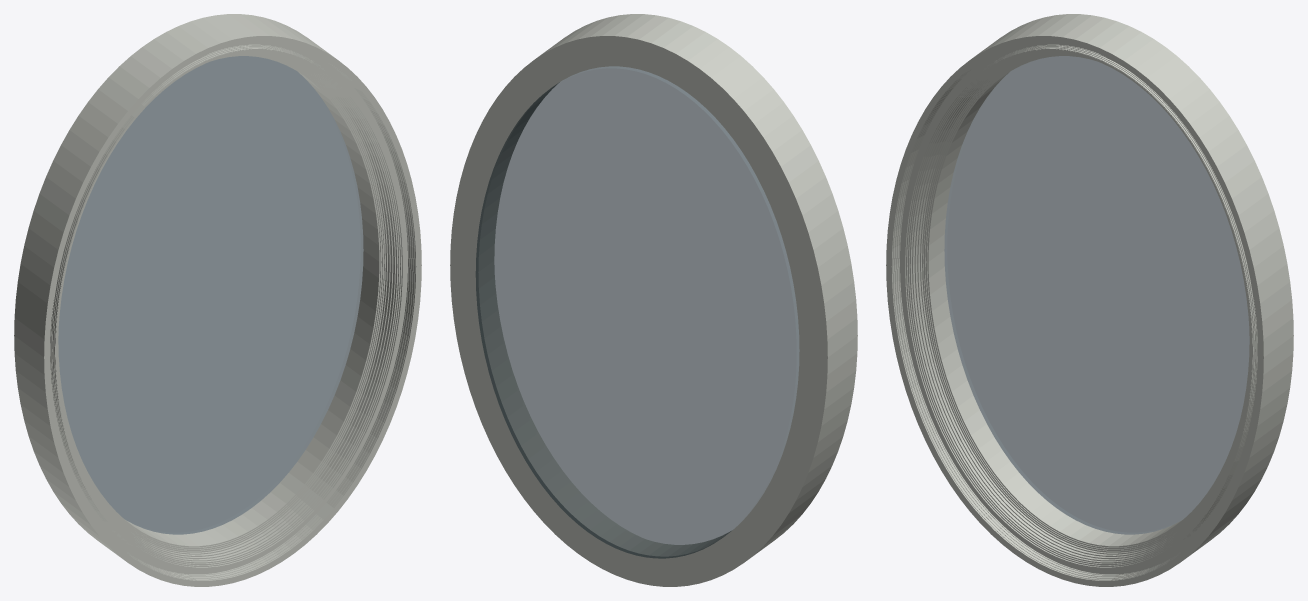
File: republicano_ellipse.glb
3 views of the same model, side by side, from view 1: azimuth 30°, elevation 25°; view 2: azimuth 150°, elevation 25°; view 3: azimuth 330°, elevation 25° (orthographic).
Parts seen in each view (by area): view 1: window_glass#0001, window_reveal#0001, window_profile#0028, window_profile#0001, window_profile#0025, window_profile#0027, window_profile#0026, window_profile#0012, window_profile#0009, window_profile#0011, window_profile#0008, window_profile#0010 (+18 smaller); view 2: window_glass#0001, window_reveal#0001, window_profile#0028, window_profile#0001; view 3: window_glass#0001, window_reveal#0001, window_profile#0028, window_profile#0001, window_profile#0025, window_profile#0027, window_profile#0026, window_profile#0012, window_profile#0009, window_profile#0011, window_profile#0008, window_profile#0010 (+18 smaller).
Part boxes in pixels (x1,y1,x2,y2): window_glass#0001: (58,56,363,534); window_reveal#0001: (14,14,375,546); window_profile#0028: (25,22,421,586); window_profile#0001: (58,55,380,547); window_profile#0025: (48,40,417,582); window_profile#0027: (45,37,420,585); window_profile#0026: (47,39,418,583); window_profile#0012: (55,49,403,568); window_profile#0009: (57,52,398,563); window_profile#0011: (56,50,401,566); window_profile#0008: (68,52,395,561); window_profile#0010: (57,51,400,565); window_glass#0001: (475,66,799,558); window_reveal#0001: (450,26,840,586); window_profile#0028: (547,14,857,551); window_profile#0001: (490,84,730,548); window_glass#0001: (944,56,1249,534); window_reveal#0001: (932,14,1293,546); window_profile#0028: (886,22,1282,586); window_profile#0001: (927,55,1249,547); window_profile#0025: (890,40,1259,582); window_profile#0027: (887,37,1262,585); window_profile#0026: (889,39,1260,583); window_profile#0012: (904,49,1252,568); window_profile#0009: (909,52,1250,563); window_profile#0011: (906,50,1251,566); window_profile#0008: (912,52,1239,561); window_profile#0010: (907,51,1250,565).
Bounding box in the file's own units: 1.6 × 2.2 × 0.24.
